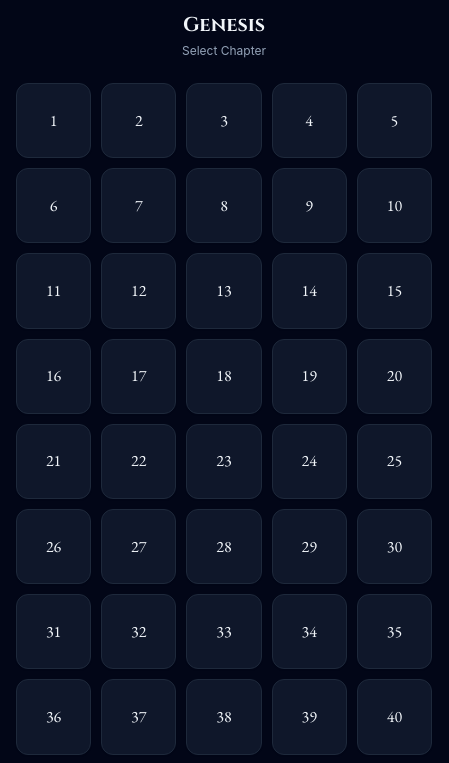
Scenario: ChapterVersePicker component › allows returning from verse picker back to chapter list via All Chapters button
Click Chapter 2
Click the button "2".
click(139, 121)  # box [101,83,176,158]
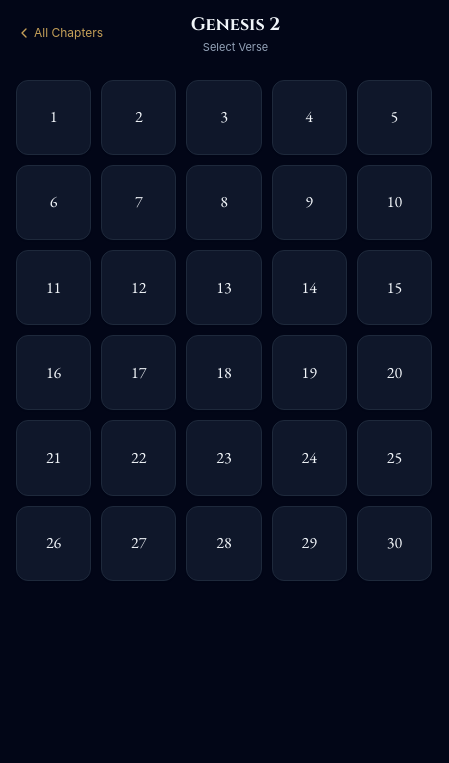
Result: the text "Select Verse" is shown at [203,40,268,54]
Click All Chapters
Click the button "All Chapters".
click(60, 33)  # box [16,25,103,41]
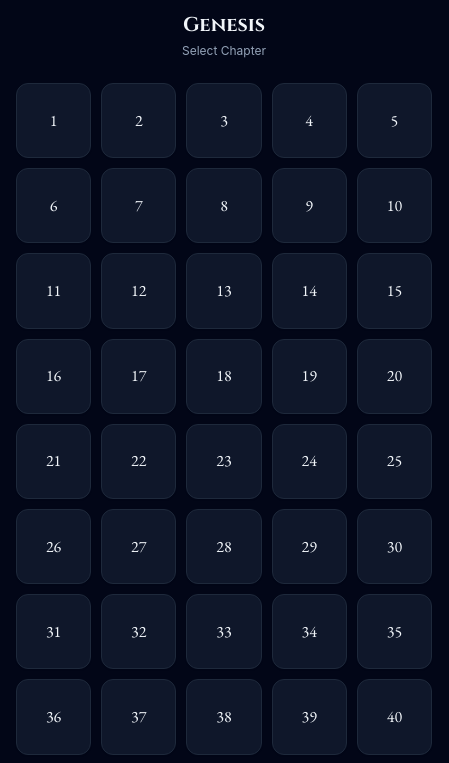
Result: the text "Select Chapter" is shown at [182,43,266,58]
